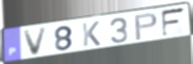3: (109, 17, 129, 44)
8: (54, 25, 75, 52)
F: (160, 6, 187, 39)
K: (81, 20, 102, 48)
P: (133, 12, 159, 42)
V: (22, 26, 50, 58)
